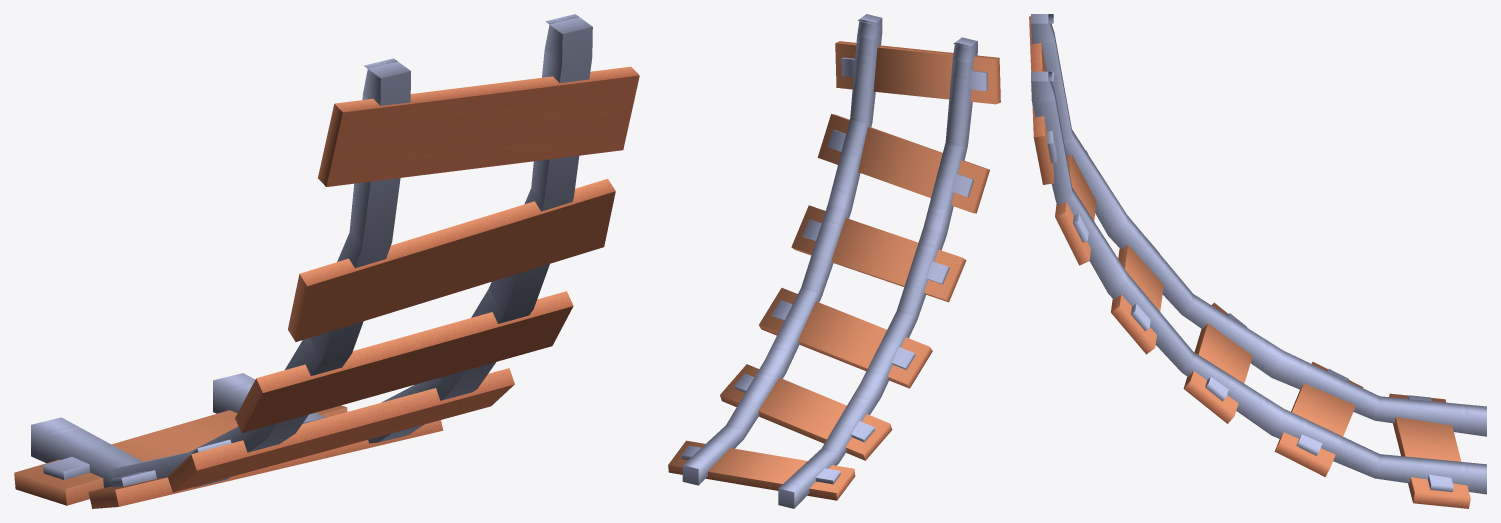
File: train-kit--railroad-damaged-straight-bend.glb
3 views of the same model, side by side, from view 1: azimuth 30°, elevation 25°; view 2: azimuth 150°, elevation 25°; view 3: azimuth 270°, elevation 25° (orthographic). The views are drawn at different scales.
Parts seen in each view (by area): view 1: railroad-damaged-straight-bend; view 2: railroad-damaged-straight-bend; view 3: railroad-damaged-straight-bend.
Part boxes in pixels (box(x1,y1,x2,y2)): railroad-damaged-straight-bend: box(14, 14, 639, 508); railroad-damaged-straight-bend: box(668, 14, 1000, 508); railroad-damaged-straight-bend: box(1029, 14, 1486, 508).
Size of the model in its own units: 1.03 by 2.01 by 2.01.
Materials: 1 (1 with a texture image).
